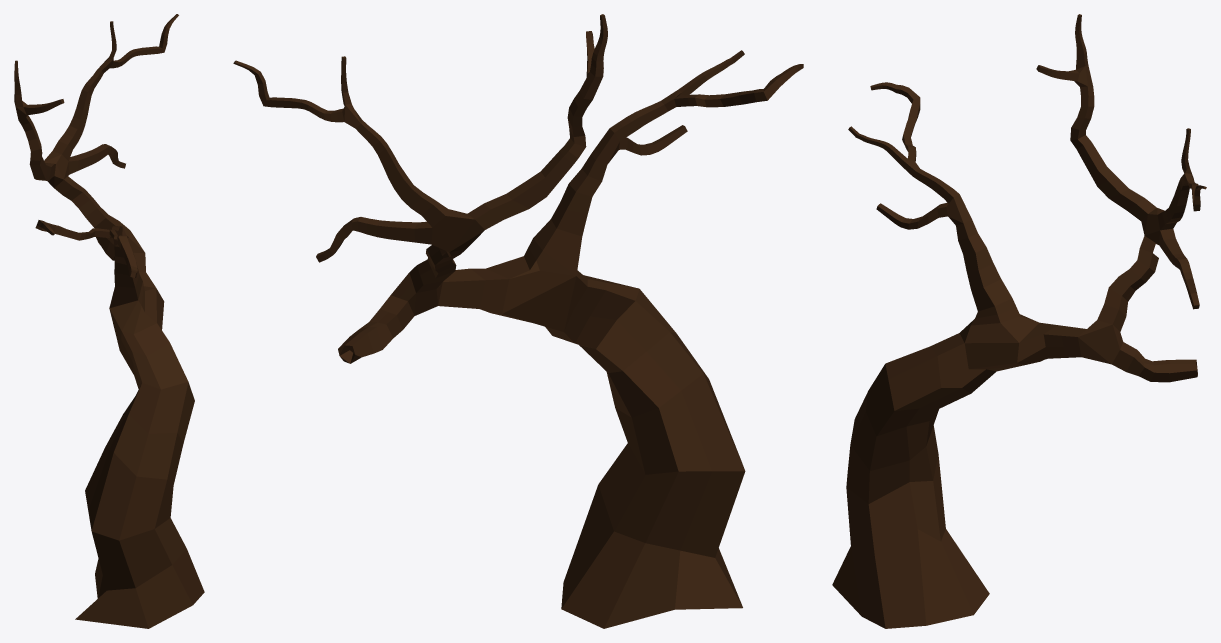
File: Tree_002.fbx
The picture shows the model from 3 angles, left to right: view 1: azimuth 30°, elevation 25°; view 2: azimuth 150°, elevation 25°; view 3: azimuth 270°, elevation 25°; orthographic projection. The views are drawn at different scales.
Parts seen in each view (by area): view 1: tree_002; view 2: tree_002; view 3: tree_002.
Boxes of the visible parts, left/top/right/bottom form: tree_002: left=14, top=14, right=204, bottom=628; tree_002: left=233, top=14, right=803, bottom=628; tree_002: left=832, top=14, right=1206, bottom=628.
Bounding box in the file's own units: 251 × 429 × 261.
